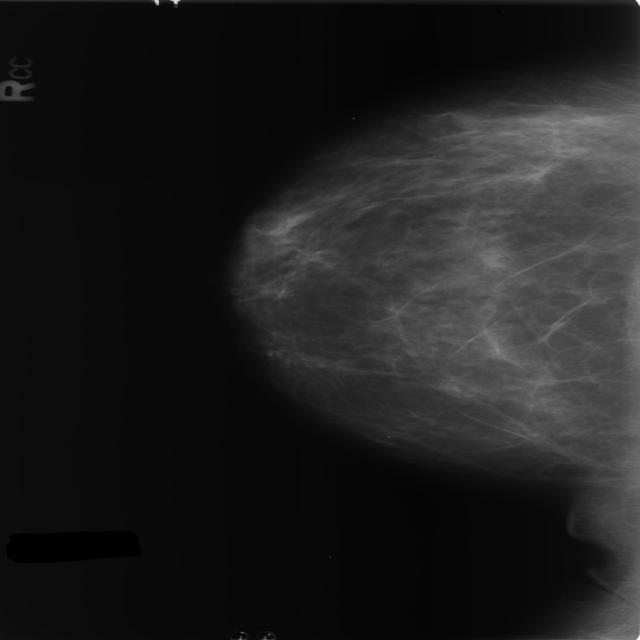tumour: (448, 108, 488, 129)
